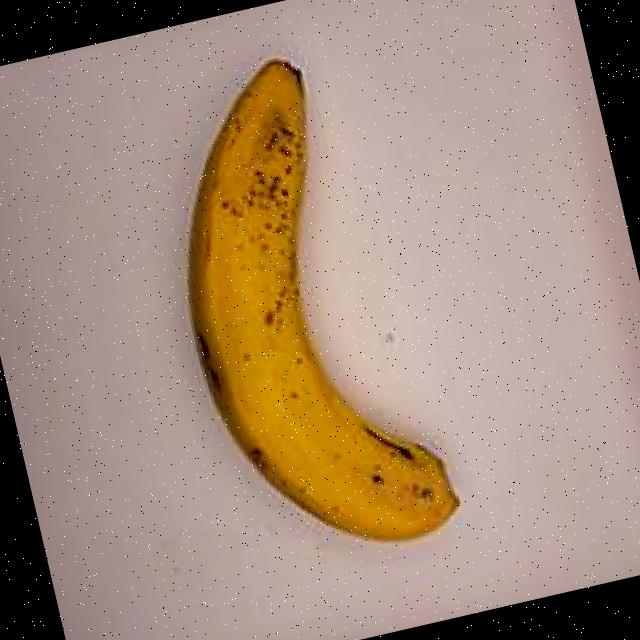Overripe: (99, 0, 536, 601)
